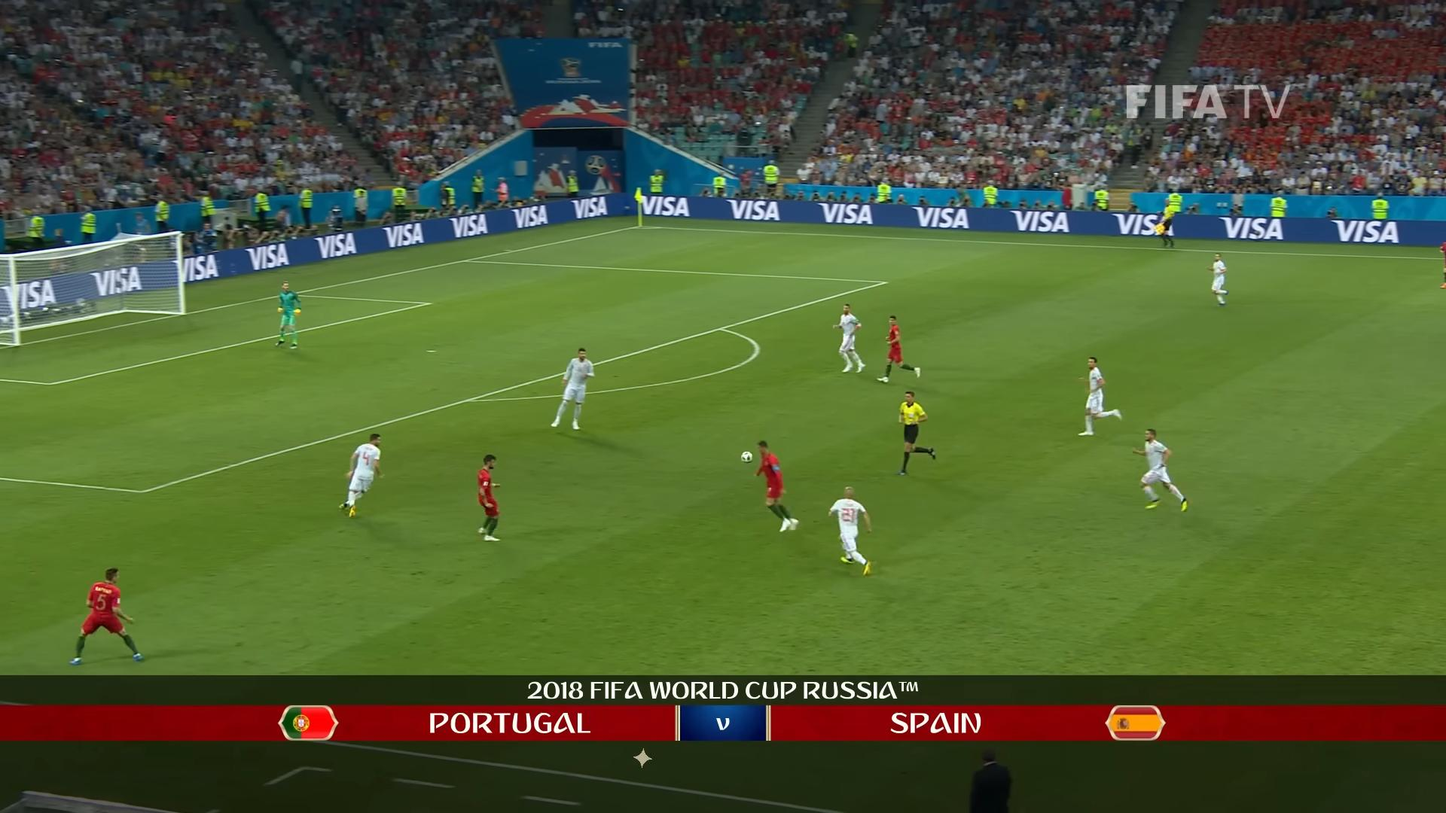Goalkeeper: (277, 282, 302, 350)
Player: (71, 567, 144, 666), (1135, 429, 1189, 510), (754, 440, 799, 532), (827, 486, 873, 574), (339, 432, 384, 519), (551, 347, 593, 429), (1079, 356, 1120, 438), (878, 313, 921, 383), (833, 305, 864, 371), (477, 454, 500, 542), (1212, 254, 1226, 305)
ball: (740, 452, 754, 463)
referee: (898, 390, 935, 473), (1155, 192, 1183, 248)
